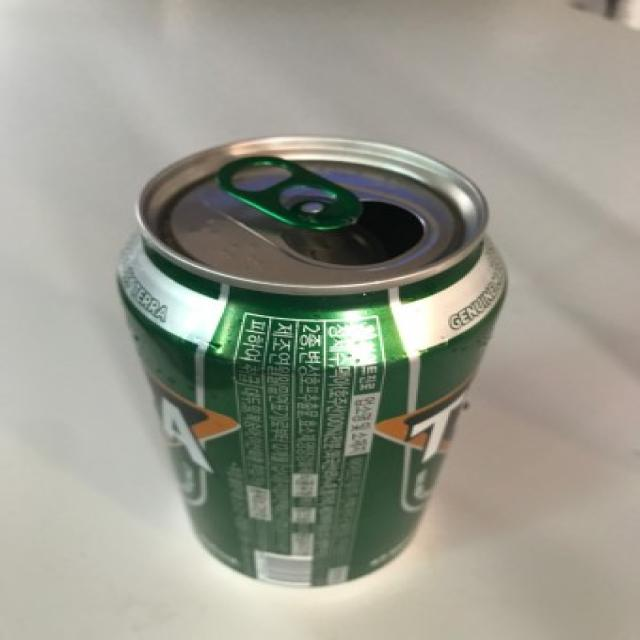can: (111, 133, 510, 590)
